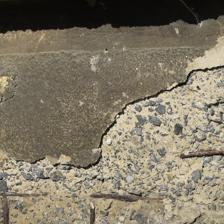Crack: (9, 33, 214, 137)
